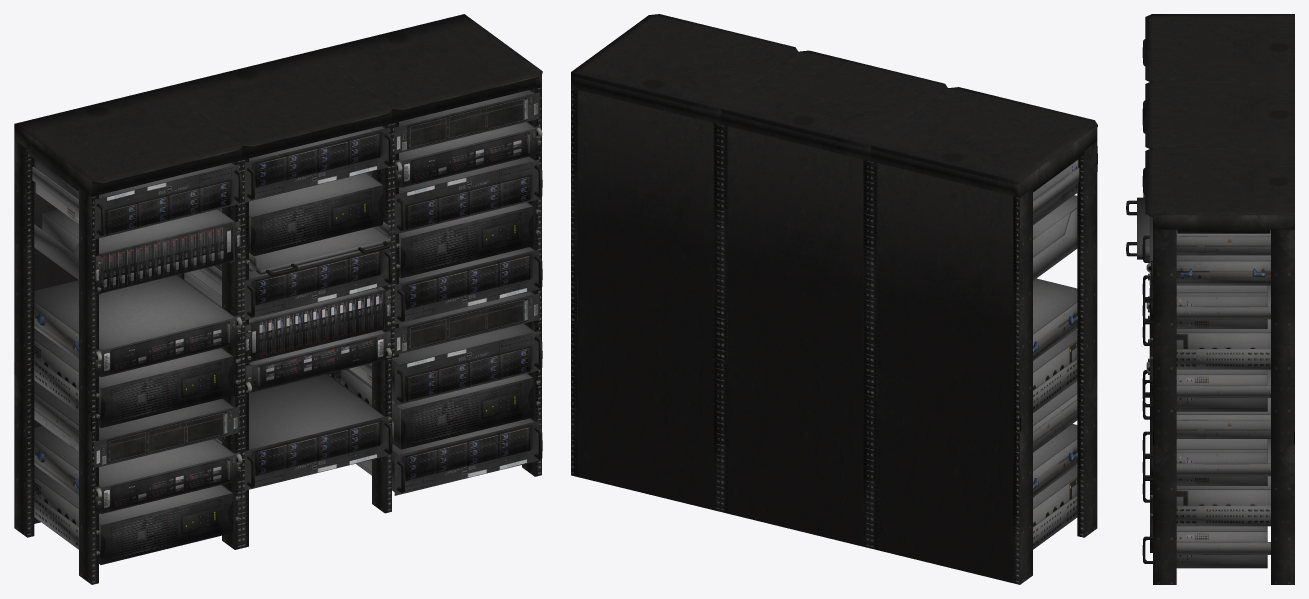
Rendered from multiserver.glb.
3 renders of one model, left to right at view 1: azimuth 30°, elevation 25°; view 2: azimuth 150°, elevation 25°; view 3: azimuth 270°, elevation 25°, orthographic. The views are drawn at different scales.
Parts seen in each view (by area): view 1: Untitled; view 2: Untitled; view 3: Untitled.
Boxes of the visible parts, x1,y1,x2,y2 form: Untitled: (14, 14, 542, 584); Untitled: (571, 14, 1097, 584); Untitled: (1126, 14, 1294, 584).
Bounding box in the file's own units: 6.06 × 5.2 × 2.15.
1 material, 1 textured.
